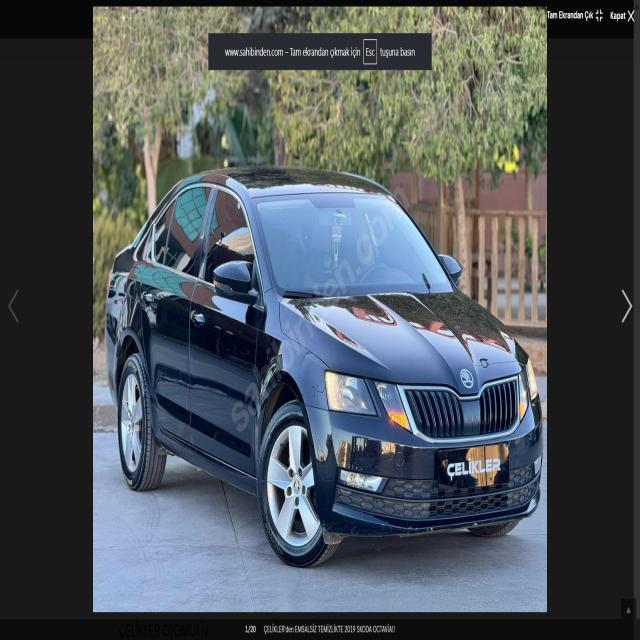skoda: (454, 360, 479, 393)
